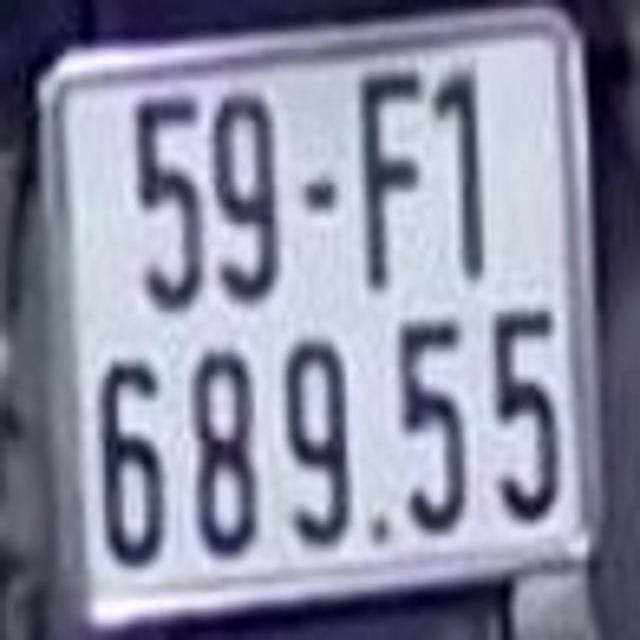1: (437, 79, 494, 282)
5: (130, 94, 209, 308), (403, 322, 469, 525), (502, 324, 556, 519)
6: (103, 361, 163, 570)
8: (186, 344, 260, 560)
9: (280, 338, 348, 546), (213, 101, 284, 298)
F: (350, 72, 428, 286)
